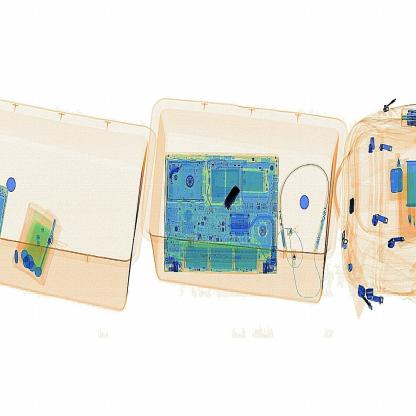scissors: (216, 184, 247, 216)
